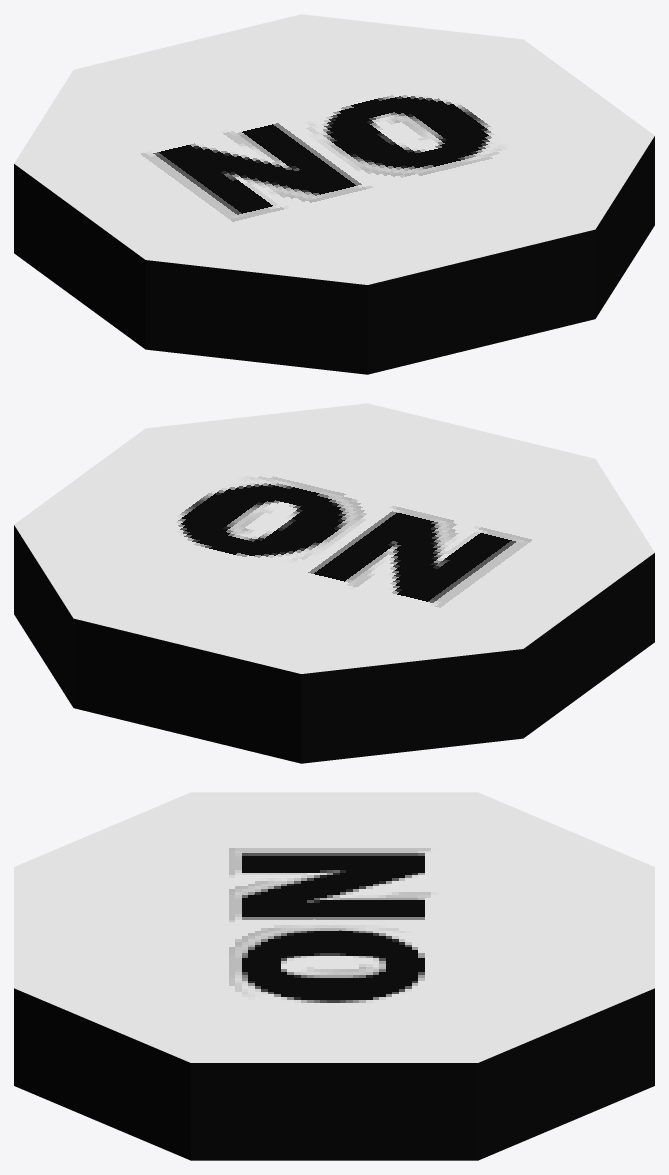
File: on_button.glb
3 views of the same model, one above another, from view 1: azimuth 30°, elevation 25°; view 2: azimuth 150°, elevation 25°; view 3: azimuth 270°, elevation 25° (orthographic). The views are drawn at different scales.
Visible parts, largest first — view 1: on_btn; view 2: on_btn; view 3: on_btn.
Boxes of the visible parts, <box> form: on_btn: <box>14,14,654,374</box>; on_btn: <box>14,403,654,763</box>; on_btn: <box>14,792,654,1160</box>.
Bounding box in the file's own units: 0.0689 × 0.0116 × 0.0689.
Materials: 1 (1 with a texture image).
